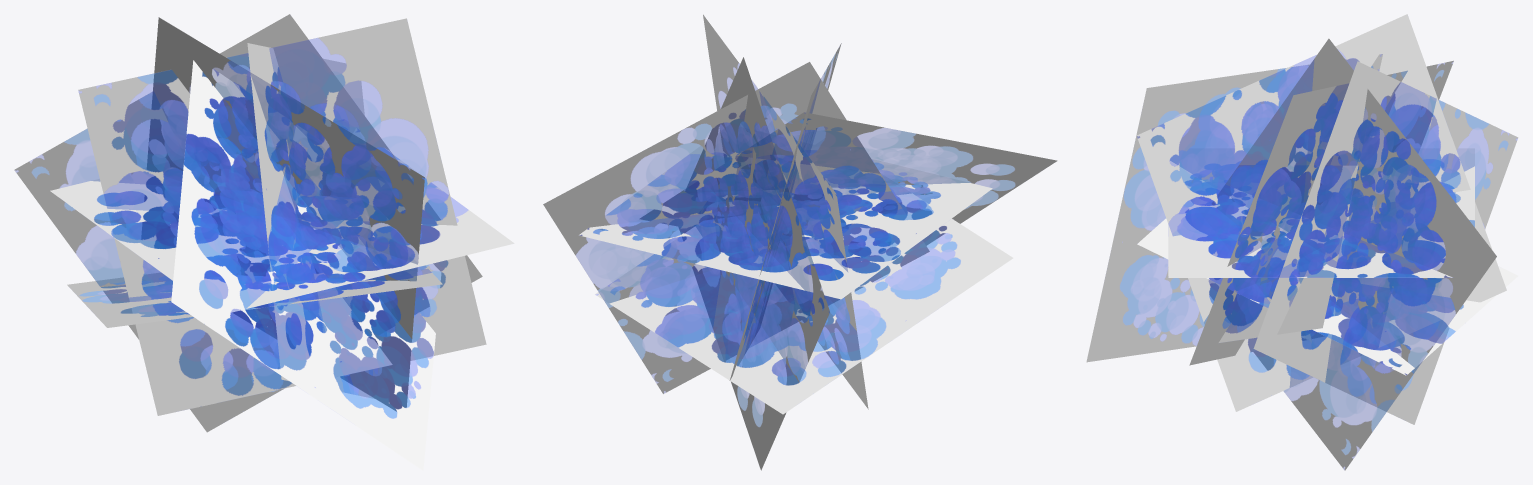
File: Bush.glb
3 views of the same model, side by side, from view 1: azimuth 30°, elevation 25°; view 2: azimuth 150°, elevation 25°; view 3: azimuth 270°, elevation 25° (orthographic). The views are drawn at different scales.
Parts seen in each view (by area): view 1: Plane.004, Plane.001, Plane.003, Plane.005, Plane, Plane.006, Plane.002; view 2: Plane.006, Plane.002, Plane, Plane.005, Plane.001, Plane.004, Plane.003; view 3: Plane.003, Plane.006, Plane.001, Plane.005, Plane, Plane.004, Plane.002.
Boxes of the visible parts, x1,y1,x2,y2 form: Plane.004: (78, 18, 486, 415); Plane.001: (171, 60, 441, 470); Plane.003: (141, 17, 424, 411); Plane.005: (14, 14, 482, 432); Plane: (50, 119, 514, 312); Plane.006: (247, 43, 384, 398); Plane.002: (67, 265, 442, 327); Plane.006: (543, 62, 929, 393); Plane.002: (595, 138, 1013, 414); Plane: (579, 124, 992, 299); Plane.005: (678, 57, 829, 470); Plane.001: (640, 112, 1057, 257); Plane.004: (703, 14, 868, 409); Plane.003: (729, 43, 841, 380); Plane.003: (1136, 14, 1506, 411); Plane.006: (1209, 38, 1496, 470); Plane.001: (1086, 54, 1382, 362); Plane.005: (1253, 61, 1518, 424); Plane: (1168, 148, 1474, 277); Plane.004: (1189, 60, 1453, 365); Plane.002: (1137, 144, 1517, 375).
Size of the model in its own units: 2.65 by 2.79 by 2.82.
1 material, 1 textured.
